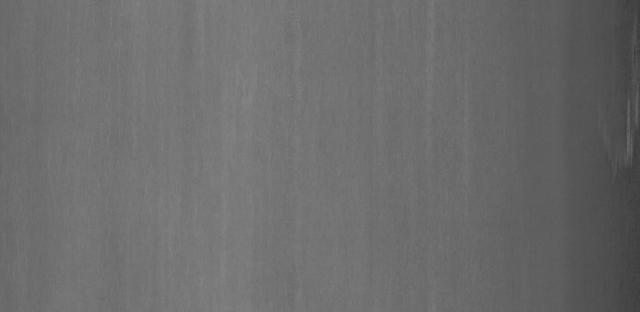silk_spot: (570, 94, 640, 176)
